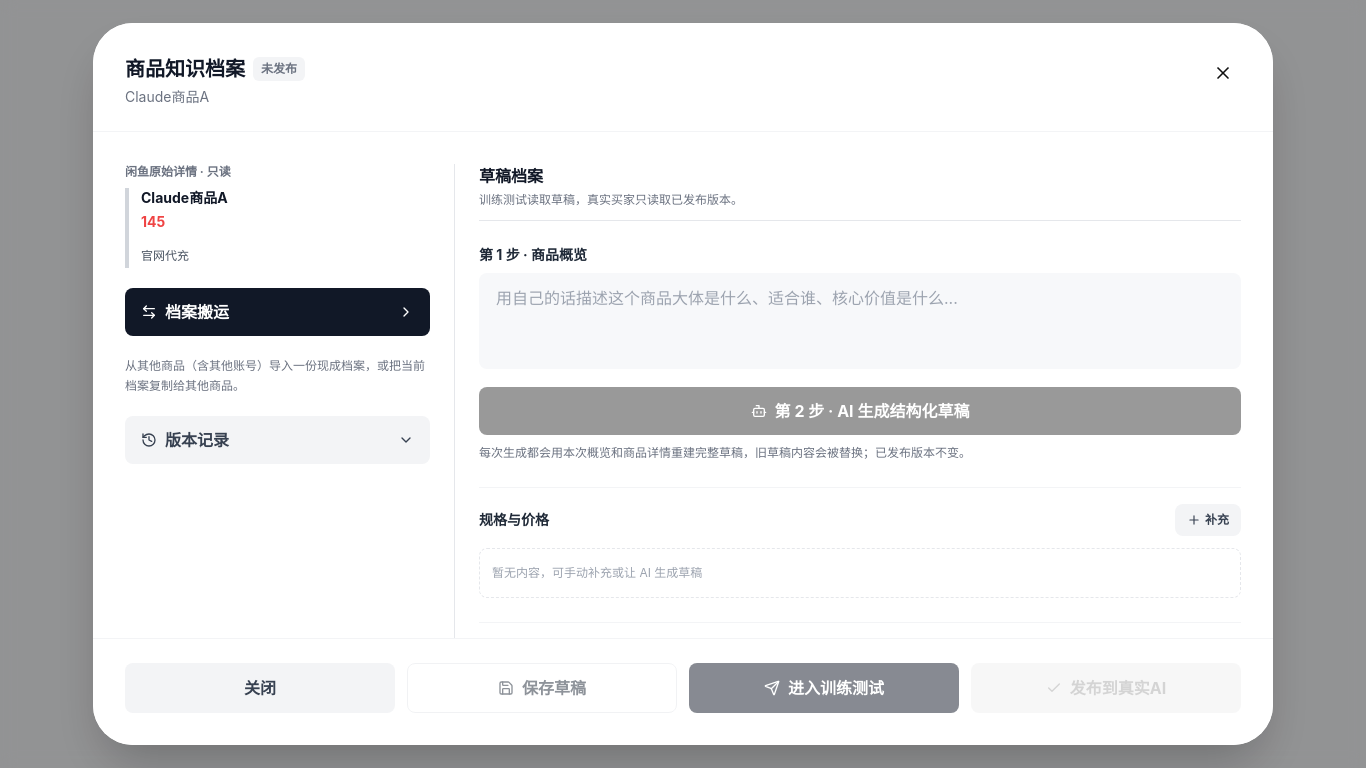
Test: ItemKnowledgeModal overview workflow › requires and sends the seller overview before generating details
Expected: the heading "草稿档案" is shown, [479,166,543,186]
Expected: the button "第 2 步 · AI 生成结构化草稿" is disabled, [479,387,1241,435]
Type "卖家填写的概览" into the text box with placeholder "用自己的话描述这个商品大体是什么、适合谁、核心价值是什么..." at (860, 321), box [479,273,1241,369]
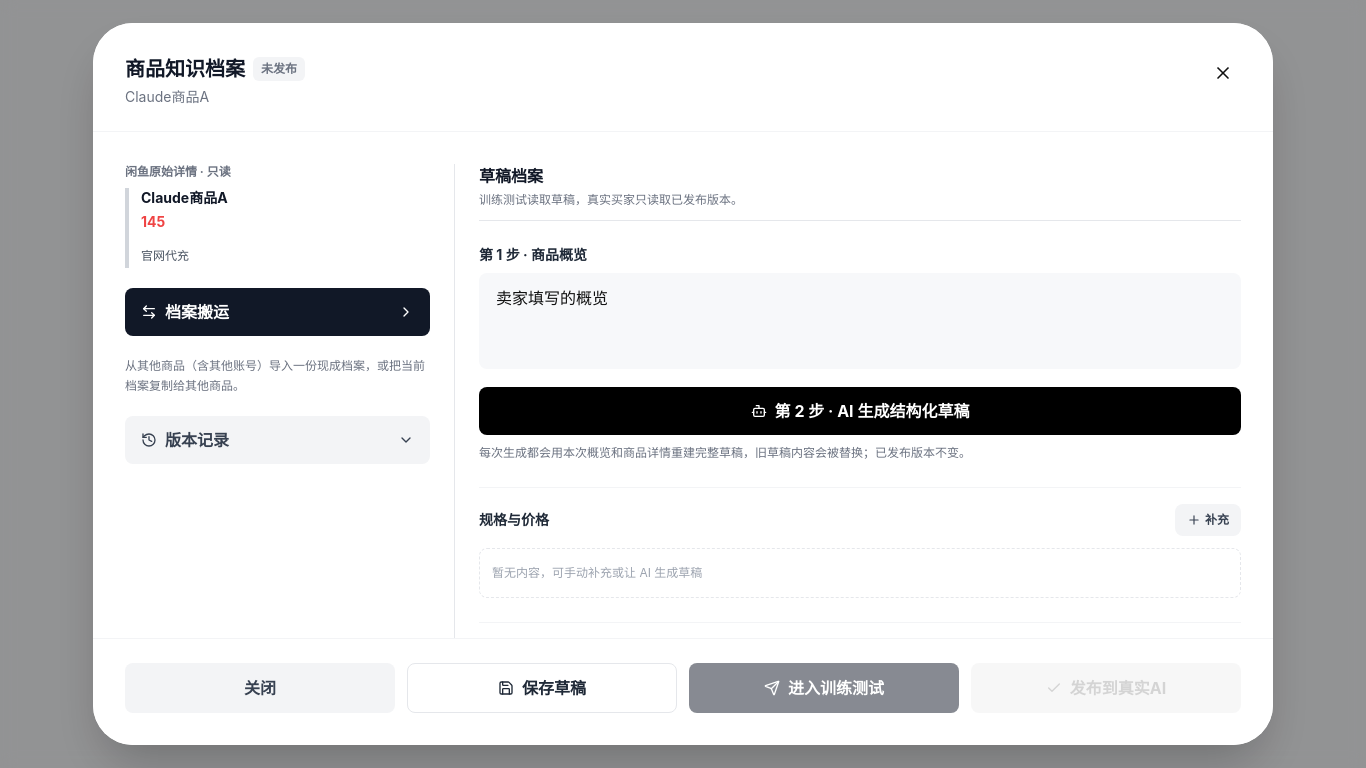
Result: the button "第 2 步 · AI 生成结构化草稿" is enabled
Click the button "第 2 步 · AI 生成结构化草稿" at (860, 411), box [479,387,1241,435]
(page scrolled)
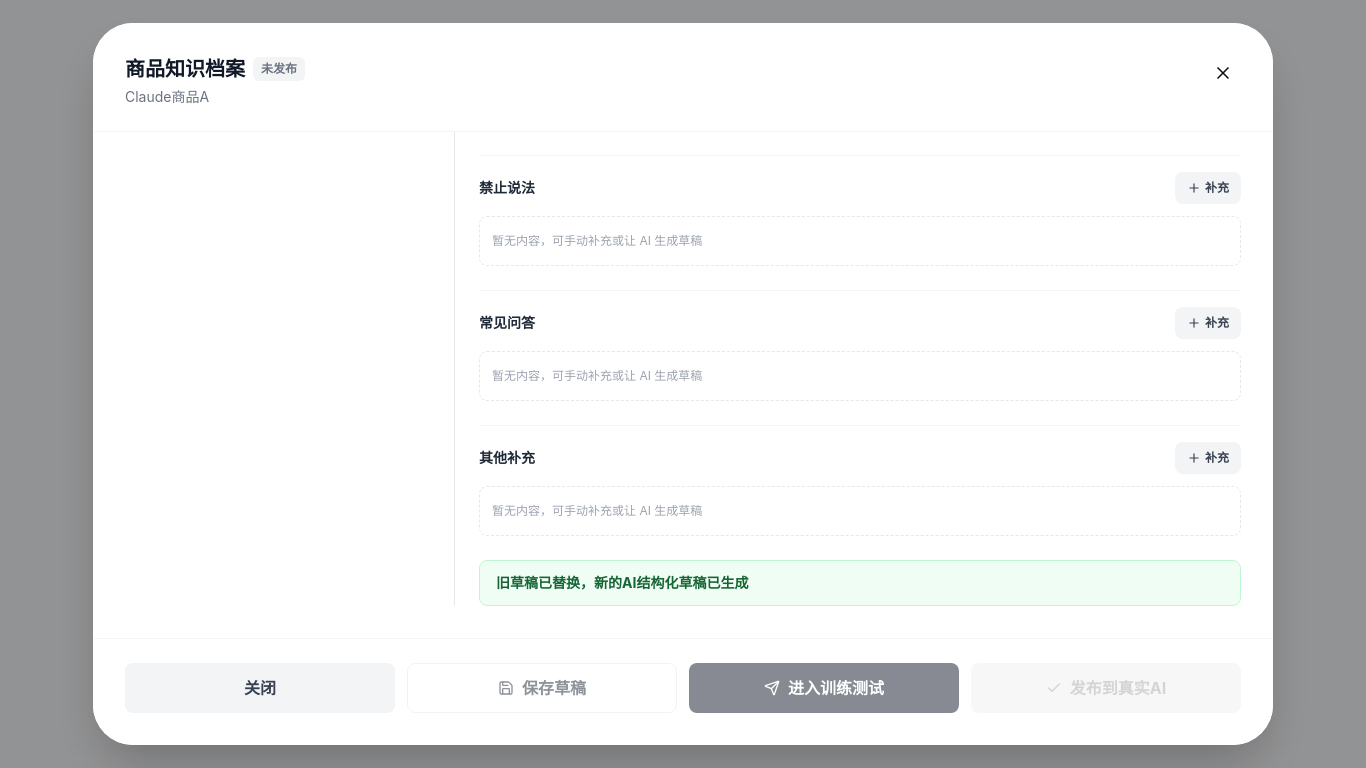
Result: the text "旧草稿已替换，新的AI结构化草稿已生成" is shown at [479,560,1241,606]
